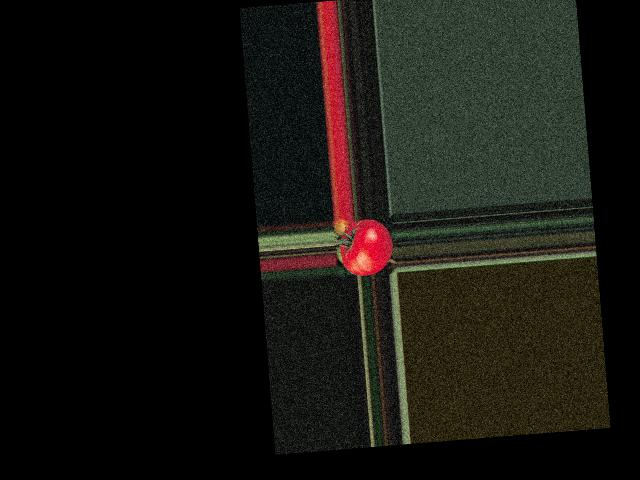tomato: (338, 218, 395, 277)
